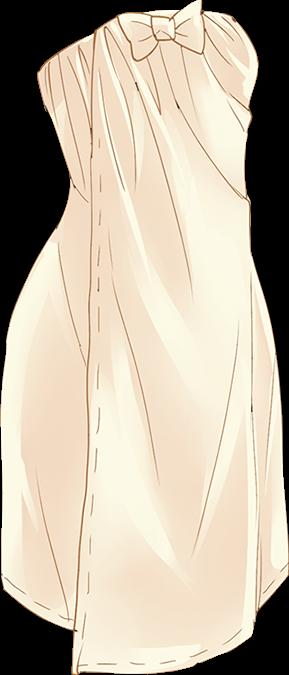Bodice: (37, 2, 258, 201)
Hemline: (68, 198, 288, 674), (2, 581, 80, 635)
Neckline: (35, 6, 231, 77), (86, 34, 99, 205)
Skirt: (1, 202, 288, 674)
